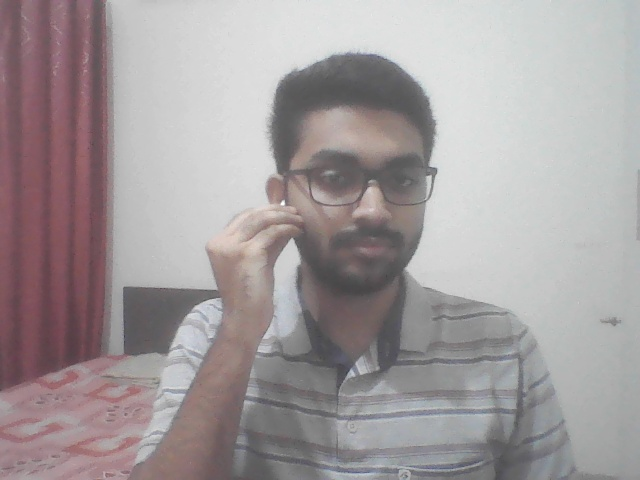home: (190, 198, 313, 358)
